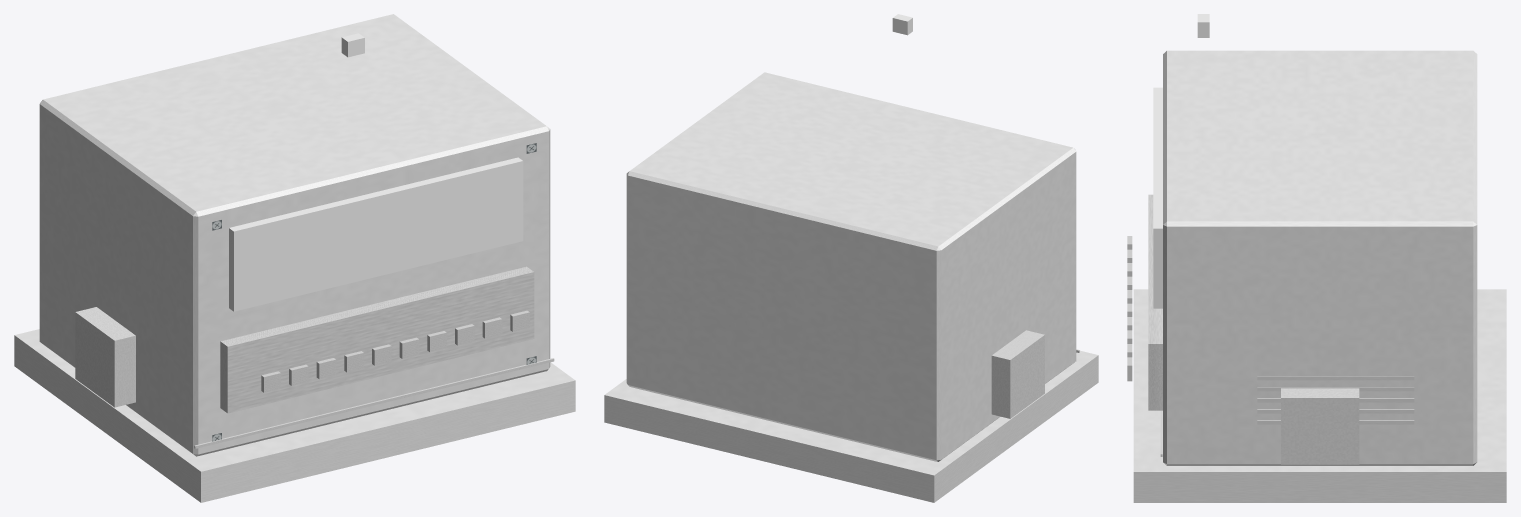
Rendered from industrial_scada.obj.
3 renders of one model, left to right at view 1: azimuth 30°, elevation 25°; view 2: azimuth 150°, elevation 25°; view 3: azimuth 270°, elevation 25°, orthographic. The views are drawn at different scales.
Visible parts, largest first — view 1: Case, Base, Screen, Trim, Input, Terminal; view 2: Case, Base, Input; view 3: Case, Base, Output, Trim, Screen, Terminal.
Boxes of the visible parts, left/top/right/bottom form: Case: left=39, top=14, right=550, bottom=456; Base: left=14, top=329, right=575, bottom=502; Screen: left=229, top=157, right=523, bottom=311; Trim: left=194, top=143, right=554, bottom=448; Input: left=75, top=307, right=135, bottom=407; Terminal: left=261, top=310, right=529, bottom=392; Case: left=626, top=72, right=1076, bottom=461; Base: left=604, top=350, right=1098, bottom=502; Input: left=991, top=330, right=1044, bottom=418; Case: left=1163, top=50, right=1477, bottom=465; Base: left=1133, top=289, right=1506, bottom=502; Output: left=1281, top=388, right=1359, bottom=464; Trim: left=1148, top=194, right=1414, bottom=456; Screen: left=1153, top=87, right=1162, bottom=308; Terminal: left=1127, top=236, right=1132, bottom=381.
Size of the model in its own units: 0.94 by 0.885 by 0.773.
